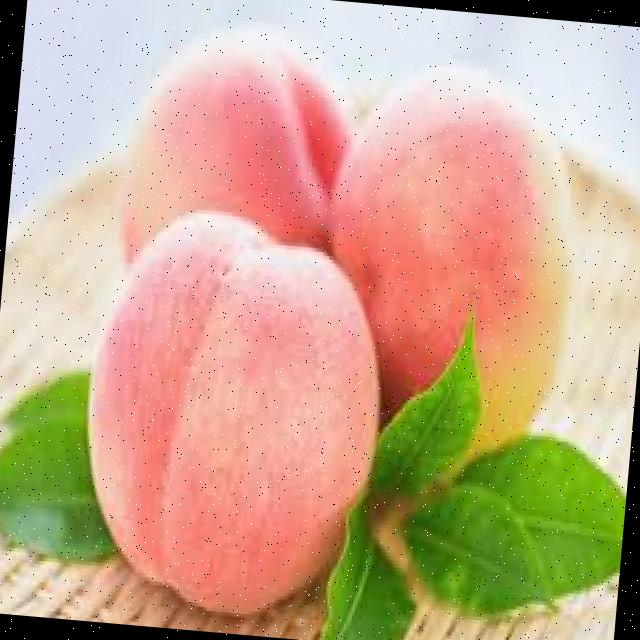peach: (88, 211, 380, 616), (331, 72, 573, 445), (117, 27, 351, 264)
